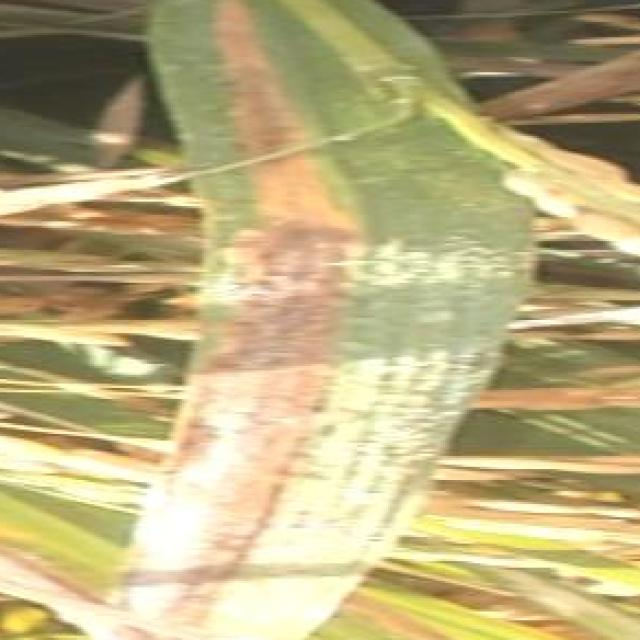Bacterial_Leaf_Blight: (195, 0, 458, 577)
